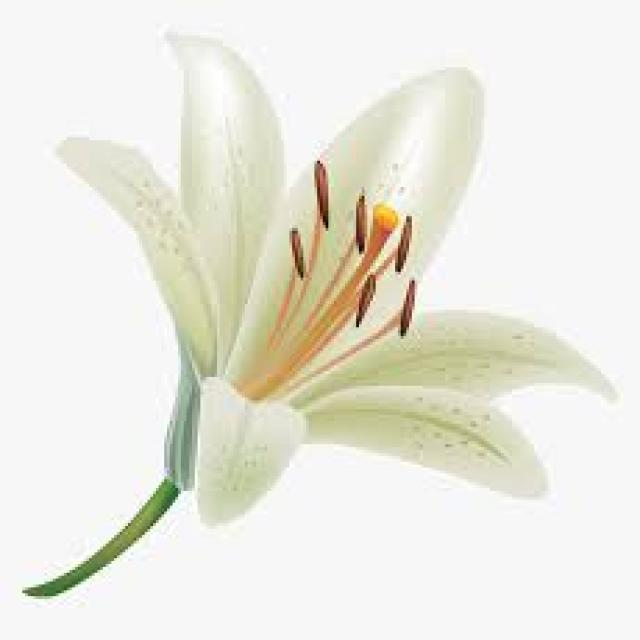lily: (17, 9, 619, 633)
